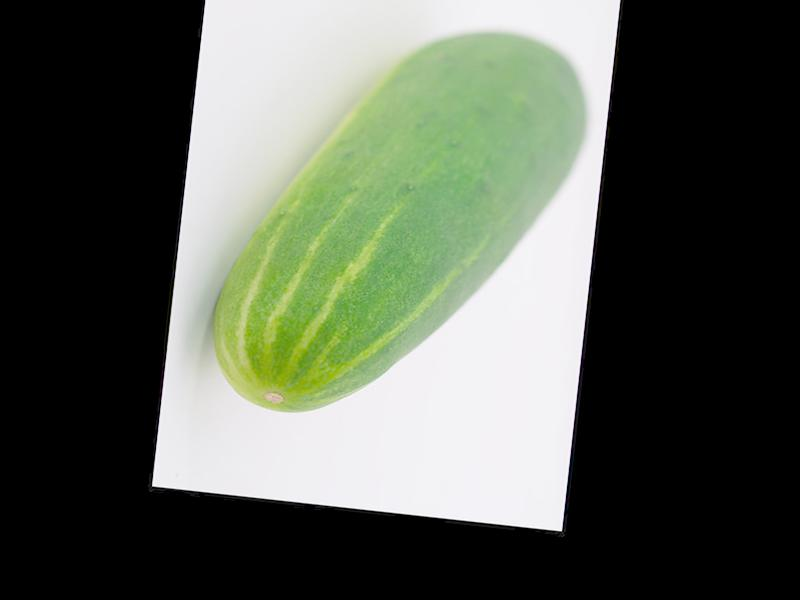Cucumber: (205, 4, 596, 440)
